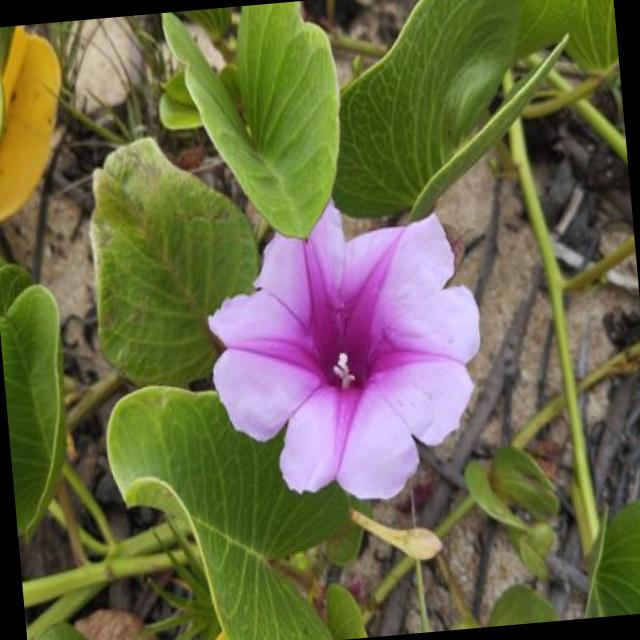ipomoea: (193, 186, 498, 518)
